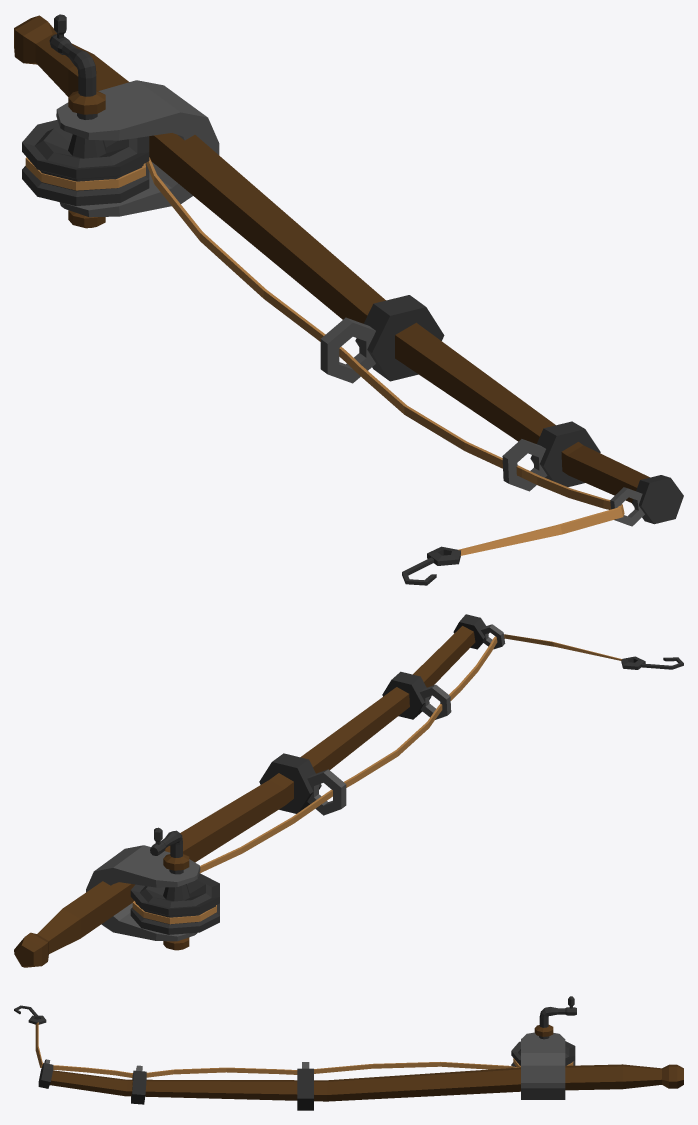
The model's file is F_FishingRod.fbx.
3 renders of one model, top to bottom at view 1: azimuth 30°, elevation 25°; view 2: azimuth 150°, elevation 25°; view 3: azimuth 270°, elevation 25°, orthographic. The views are drawn at different scales.
Visible parts, largest first — view 1: F_FishingRod, F_FishingRoll, F_FishingCord; view 2: F_FishingRod, F_FishingRoll, F_FishingCord; view 3: F_FishingRod, F_FishingCord, F_FishingRoll.
Boxes of the visible parts, left/top/right/bottom form: F_FishingRod: left=14, top=15, right=683, bottom=526; F_FishingRoll: left=22, top=14, right=149, bottom=228; F_FishingCord: left=25, top=157, right=624, bottom=585; F_FishingRod: left=14, top=614, right=505, bottom=967; F_FishingRoll: left=130, top=827, right=219, bottom=950; F_FishingCord: left=132, top=634, right=683, bottom=924; F_FishingRod: left=38, top=1032, right=683, bottom=1110; F_FishingCord: left=14, top=1005, right=573, bottom=1077; F_FishingRoll: left=511, top=996, right=576, bottom=1066.
Bounding box in the file's own units: 78.4 × 45.13 × 288.
